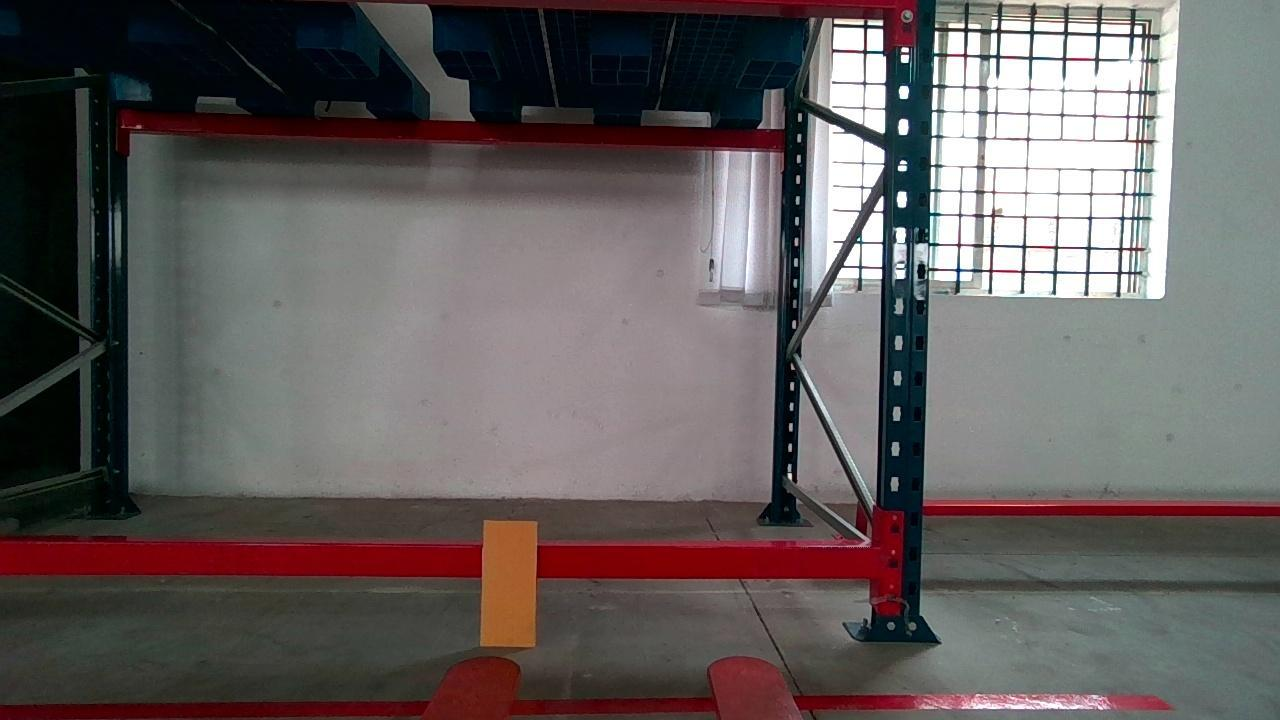h_rack: (0, 545, 874, 581)
orange_strip: (479, 516, 537, 650)
red_line: (0, 687, 1174, 718)
